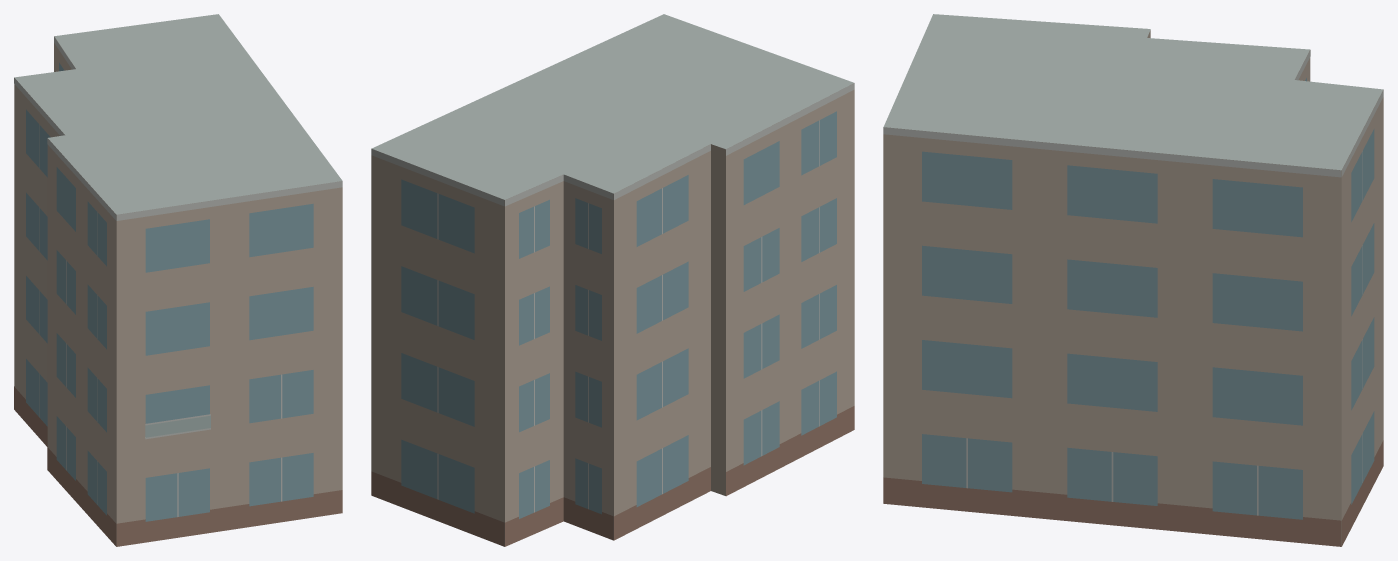
The model's file is survey-upis-32640602.glb.
3 views of the same model, side by side, from view 1: azimuth 30°, elevation 25°; view 2: azimuth 150°, elevation 25°; view 3: azimuth 270°, elevation 25° (orthographic). The views are drawn at different scales.
Visible parts, largest first — view 1: survey-upis-32640602.tmp; view 2: survey-upis-32640602.tmp; view 3: survey-upis-32640602.tmp.
Boxes of the visible parts, x1=… form: survey-upis-32640602.tmp: x1=14, y1=14, x2=342, y2=546; survey-upis-32640602.tmp: x1=371, y1=14, x2=854, y2=546; survey-upis-32640602.tmp: x1=883, y1=14, x2=1383, y2=546.
Bounding box in the file's own units: 11.4 × 12.8 × 15.41.
